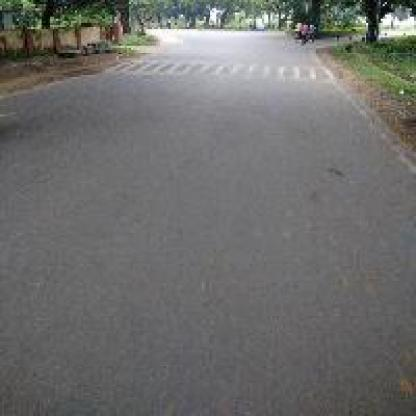Speed Bump: (102, 56, 337, 83)
